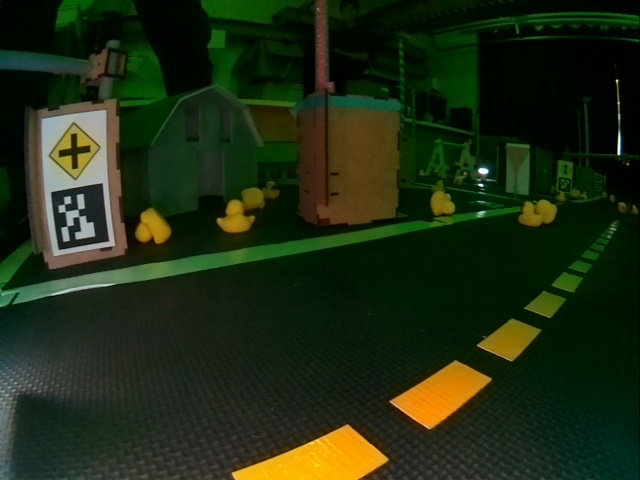Duckie: (136, 208, 172, 244), (216, 201, 255, 231), (431, 191, 456, 216), (518, 202, 540, 226), (241, 189, 264, 210), (538, 199, 556, 222), (263, 181, 279, 198), (618, 203, 626, 211)
Intersection sign: (48, 121, 103, 180)
QR code: (49, 183, 110, 251)
